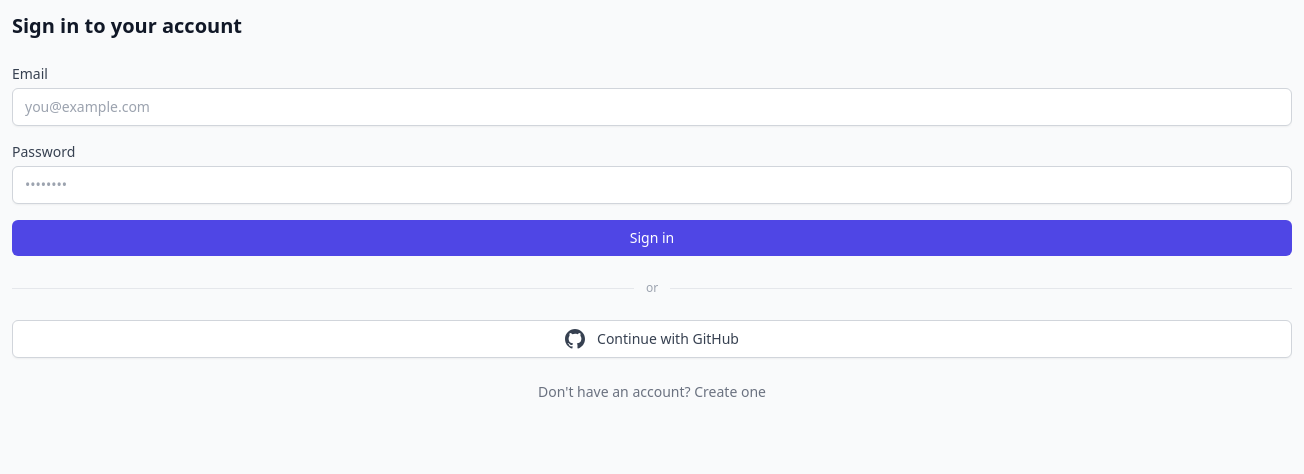
Scenario: LoginForm › shows error message on invalid credentials
Type "bad@test.com" into the field labelled "Email" at coordinates (652, 107), box [12,88,1292,126]
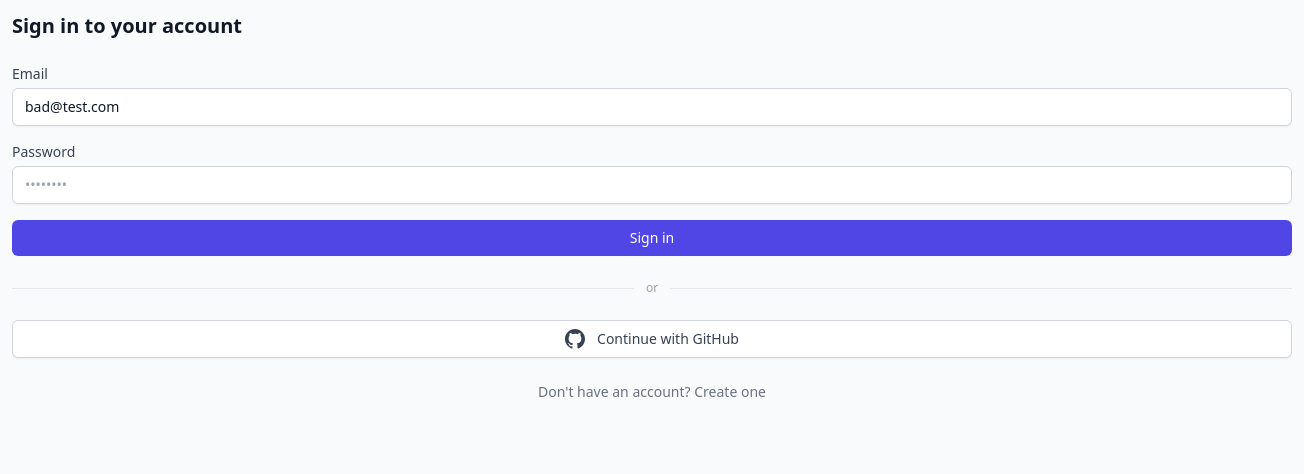
Type "wrong" into the password field labelled "Password" at coordinates (652, 185), box [12,166,1292,204]
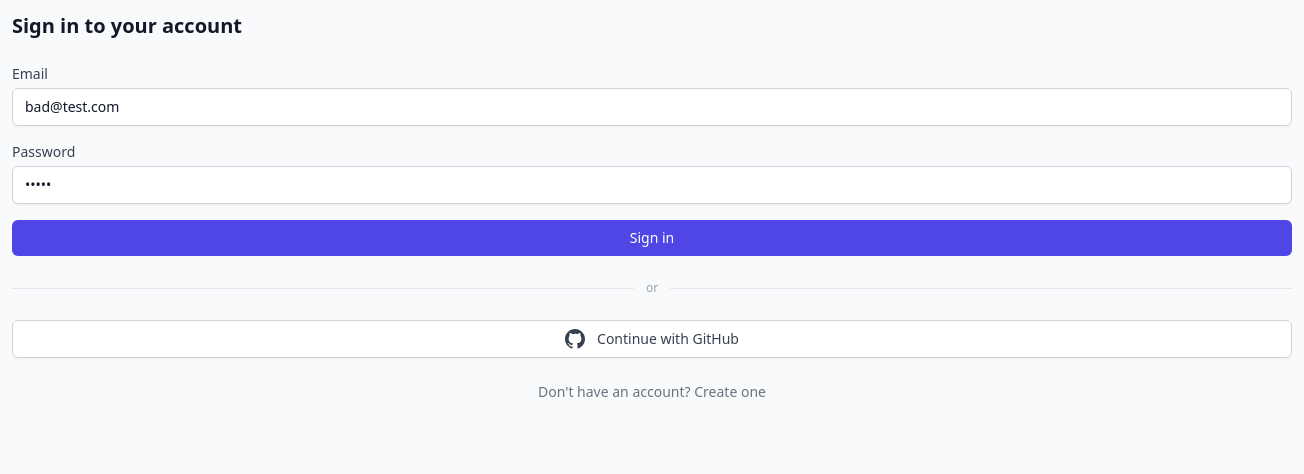
Submit the form labelled "Email", box [12,64,1292,256]
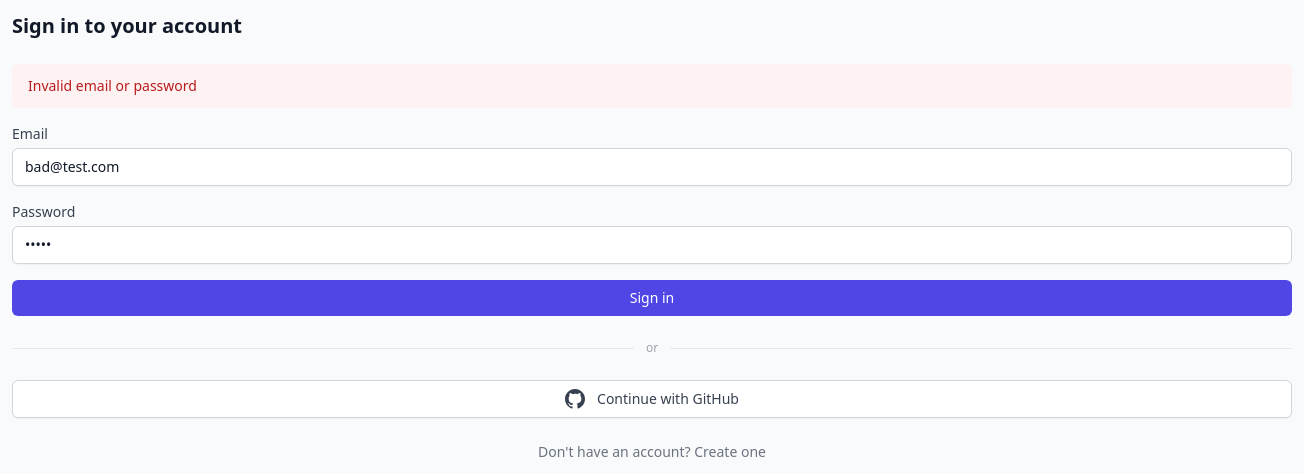
Check: the text "Invalid email or password" is shown, box [12,64,1292,108]
